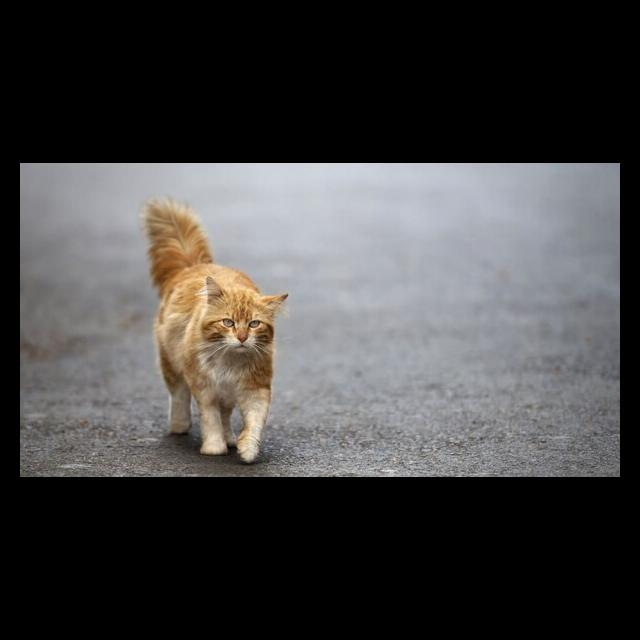animals: (141, 197, 290, 466)
